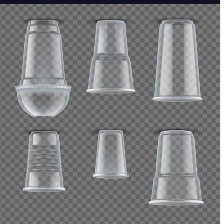glass: (12, 15, 72, 120), (144, 125, 207, 209), (148, 15, 202, 105), (85, 16, 138, 98), (21, 128, 67, 195), (90, 126, 132, 182)
